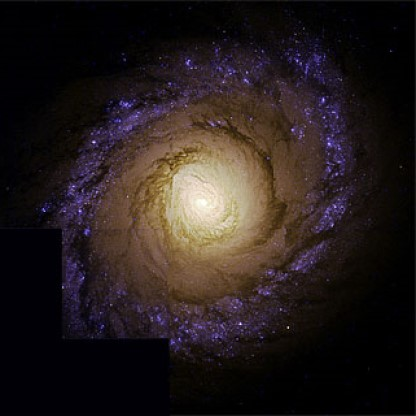Messier 94: (50, 29, 365, 364)
